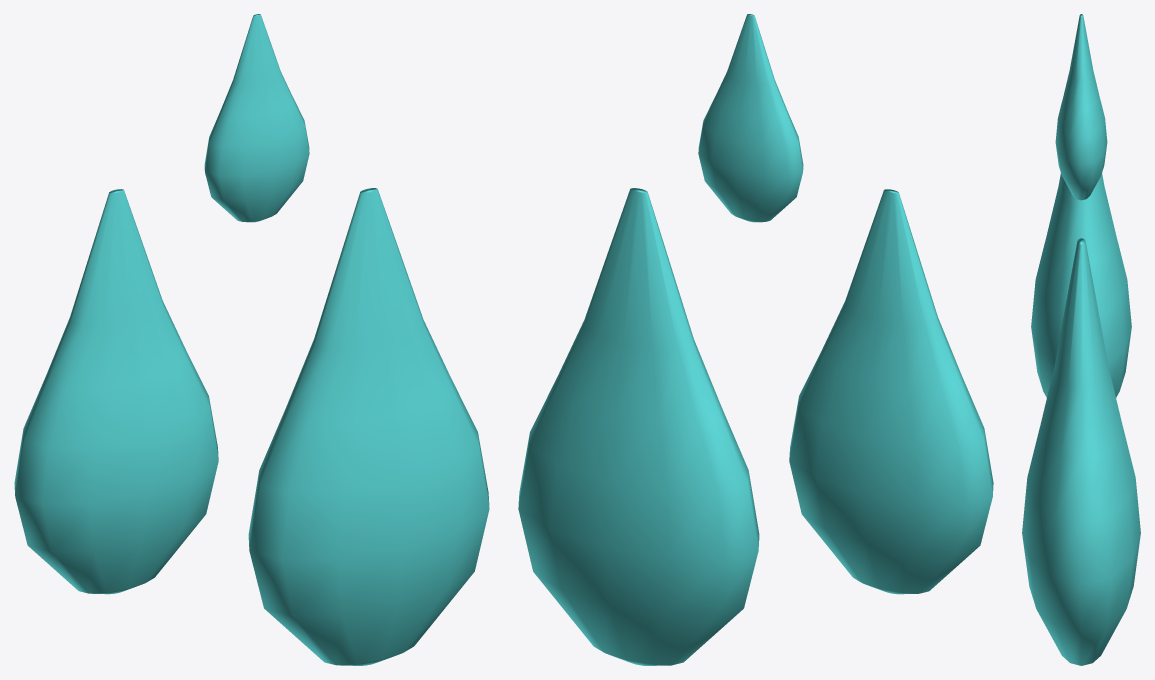
File: Water_Pickup.fbx
3 renders of one model, left to right at view 1: azimuth 30°, elevation 25°; view 2: azimuth 150°, elevation 25°; view 3: azimuth 270°, elevation 25°, orthographic. The views are drawn at different scales.
Parts seen in each view (by area): view 1: Water_Pickup; view 2: Water_Pickup; view 3: Water_Pickup.
Part boxes in pixels (x1,y1,x2,y2): Water_Pickup: [14, 14, 489, 665]; Water_Pickup: [518, 14, 993, 665]; Water_Pickup: [1022, 14, 1140, 665].
Size of the model in its own units: 36.74 by 50.02 by 9.1.
